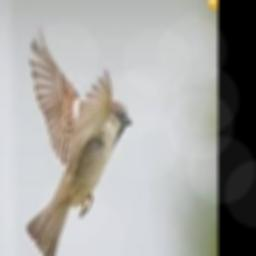Sparrow: (26, 27, 132, 256)
